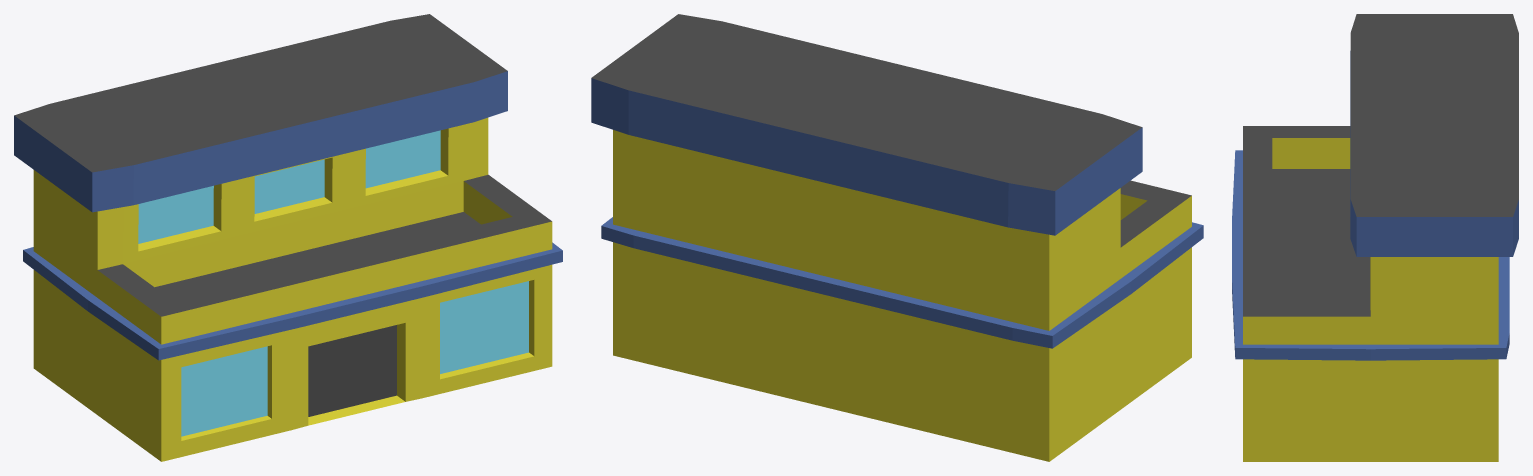
The model's file is Building_03.fbx.
3 views of the same model, side by side, from view 1: azimuth 30°, elevation 25°; view 2: azimuth 150°, elevation 25°; view 3: azimuth 270°, elevation 25° (orthographic). The views are drawn at different scales.
Parts seen in each view (by area): view 1: Building_02; view 2: Building_02; view 3: Building_02.
Part boxes in pixels (left/top/right/bottom): Building_02: left=14, top=14, right=562, bottom=461; Building_02: left=591, top=14, right=1203, bottom=461; Building_02: left=1232, top=14, right=1518, bottom=461.
Bounding box in the file's own units: 3544 × 2045 × 2117.
